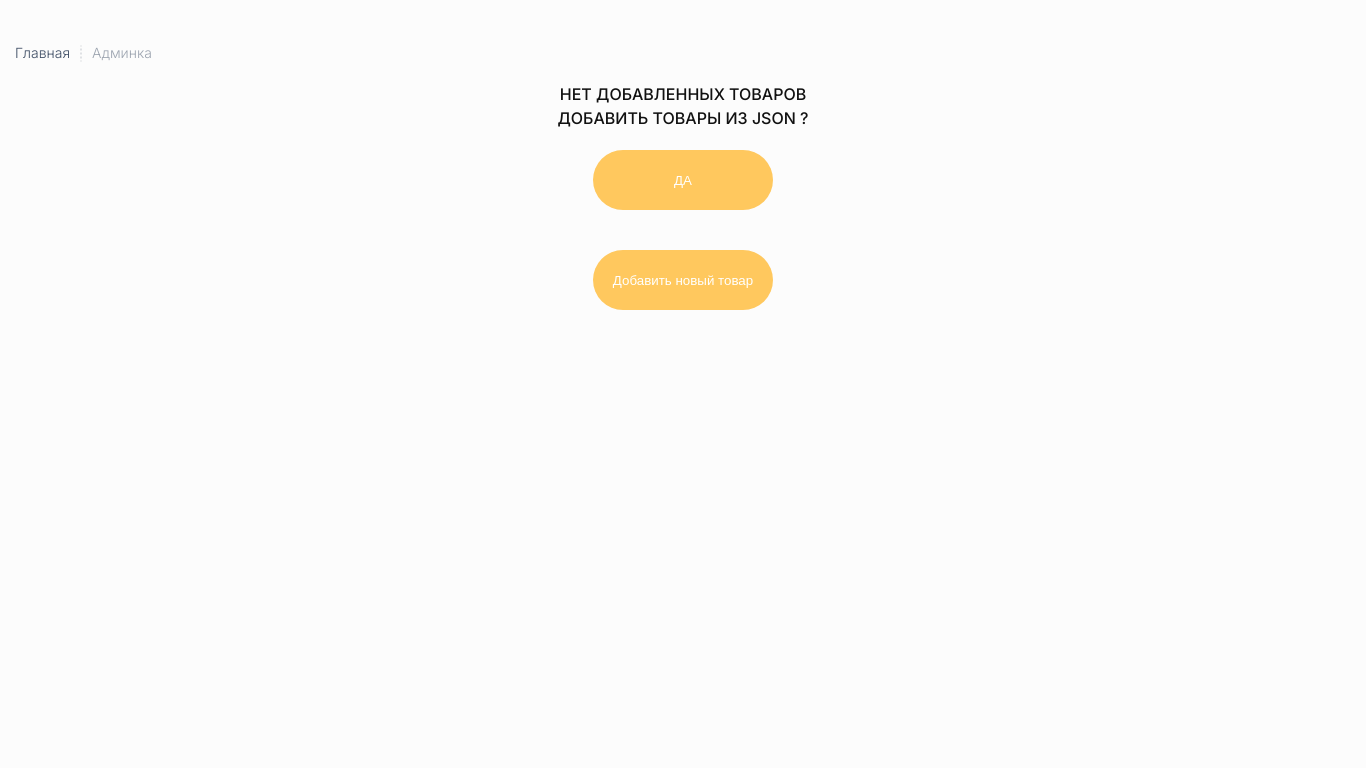
Test case: Test Admin page › Error if add empty product
This screenshot has width=1366, height=768.
Click the button with test id "add_new-product". click: (683, 280)
box: [593,250,773,310]
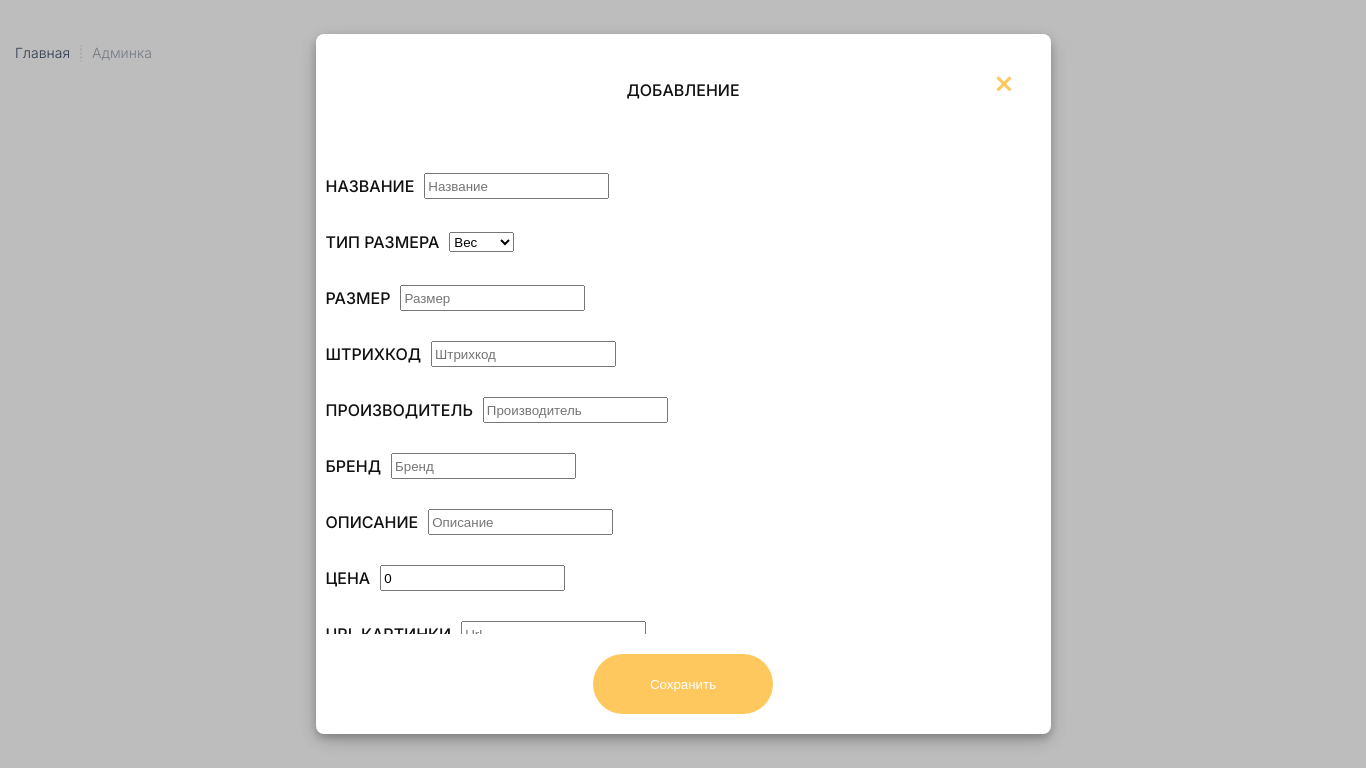
Click the button with test id "add-new-product". click: (683, 684)
box: [593,654,773,714]
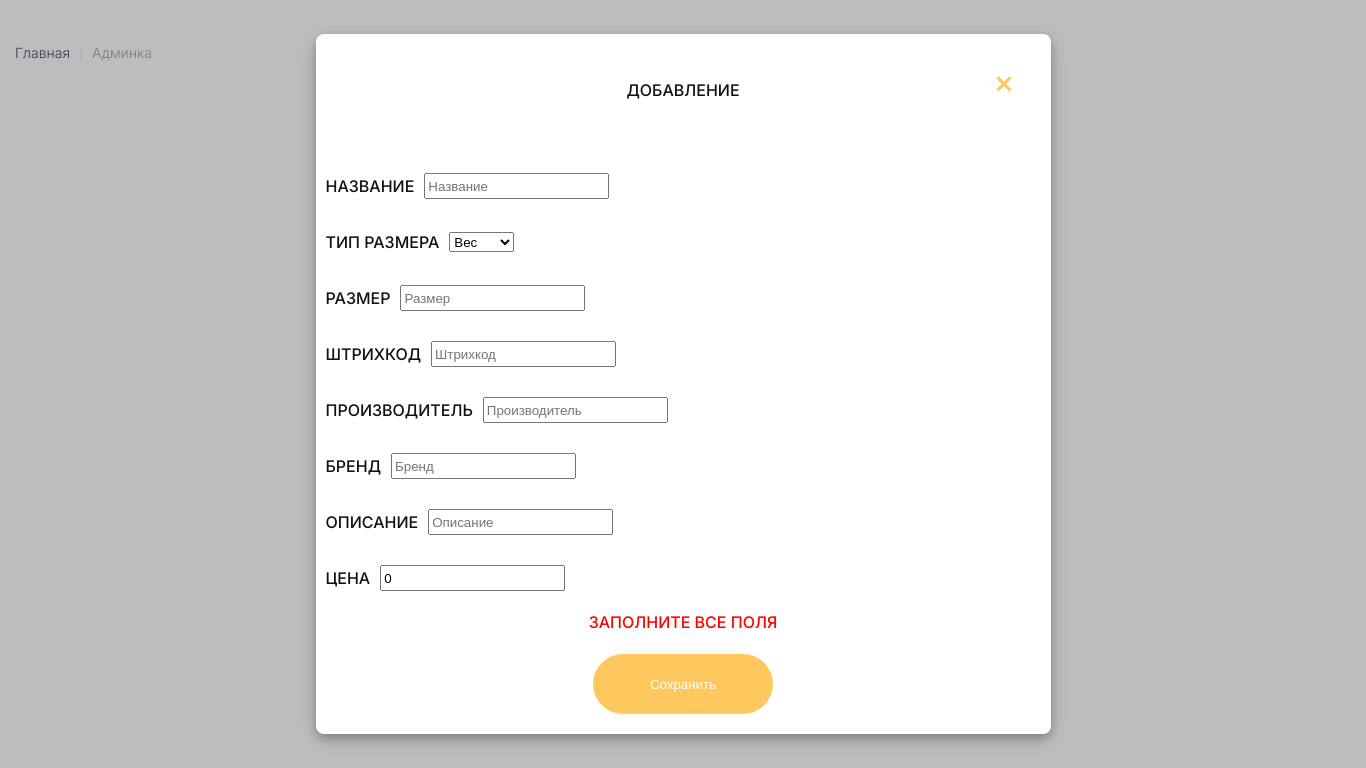
Now the text with test id "error" reads "Заполните все поля", box [589,612,777,632]
